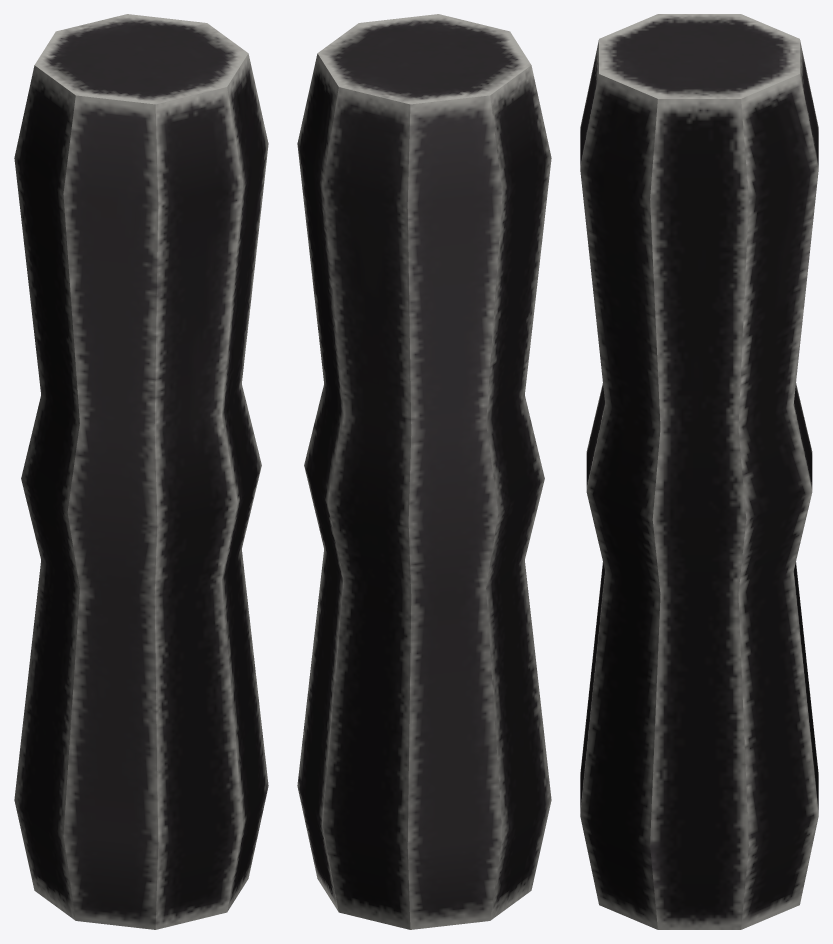
The model's file is Swaying Gourd_ChainLink.fbx.
3 renders of one model, left to right at view 1: azimuth 30°, elevation 25°; view 2: azimuth 150°, elevation 25°; view 3: azimuth 270°, elevation 25°, orthographic.
Visible parts, largest first — view 1: Swaying Gourd_ChainLink; view 2: Swaying Gourd_ChainLink; view 3: Swaying Gourd_ChainLink.
Boxes of the visible parts, bbox=[...] form: Swaying Gourd_ChainLink: bbox=[14, 14, 268, 929]; Swaying Gourd_ChainLink: bbox=[297, 14, 551, 929]; Swaying Gourd_ChainLink: bbox=[580, 14, 818, 929].
Bounding box in the file's own units: 0.0702 × 0.27 × 0.0702.
